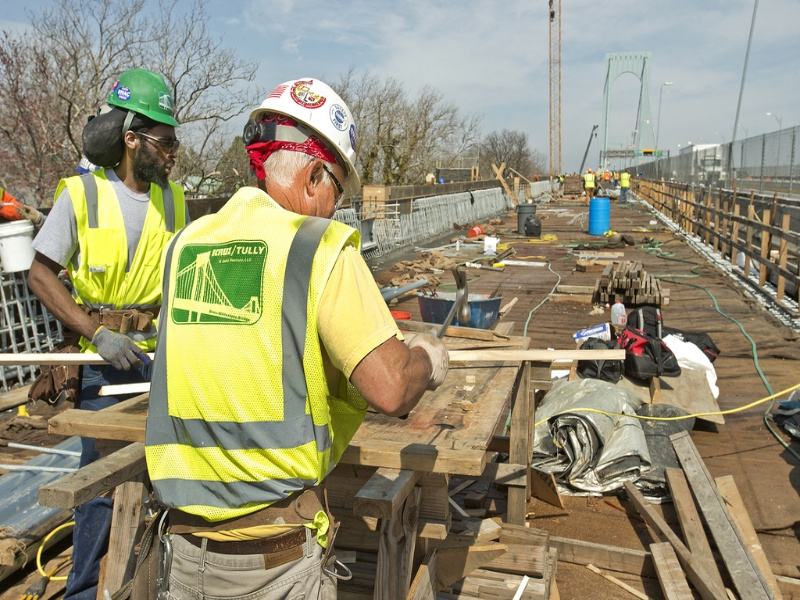Baret: (254, 76, 358, 169), (105, 68, 181, 128)
